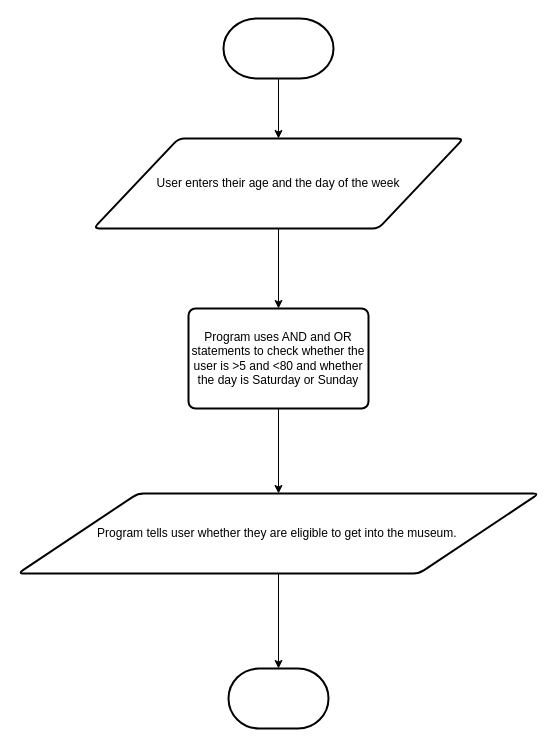
The diagram is 557 pixels wide and 746 high, and some of its shapes have lost their labels. Each missing label, with the centre of its shape:
"Start" goes at pixel 278 48.
"Stop" goes at pixel 278 698.
